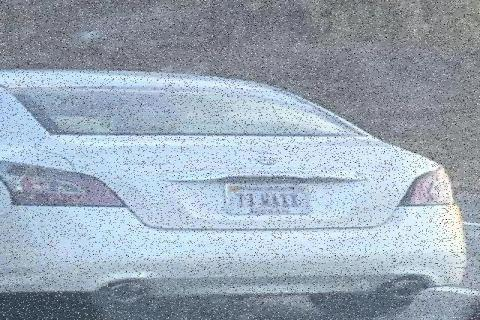LicensePlate: (221, 182, 310, 214)
